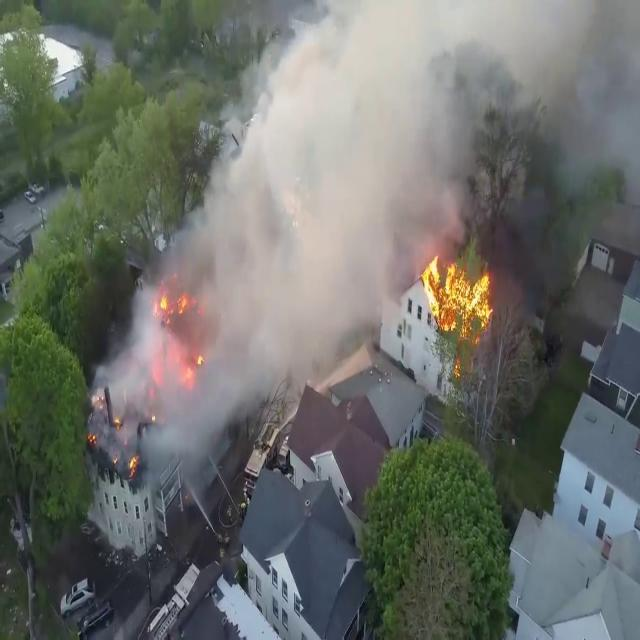Fire: (416, 242, 496, 338)
Smoke: (130, 0, 638, 382), (114, 2, 428, 501)
